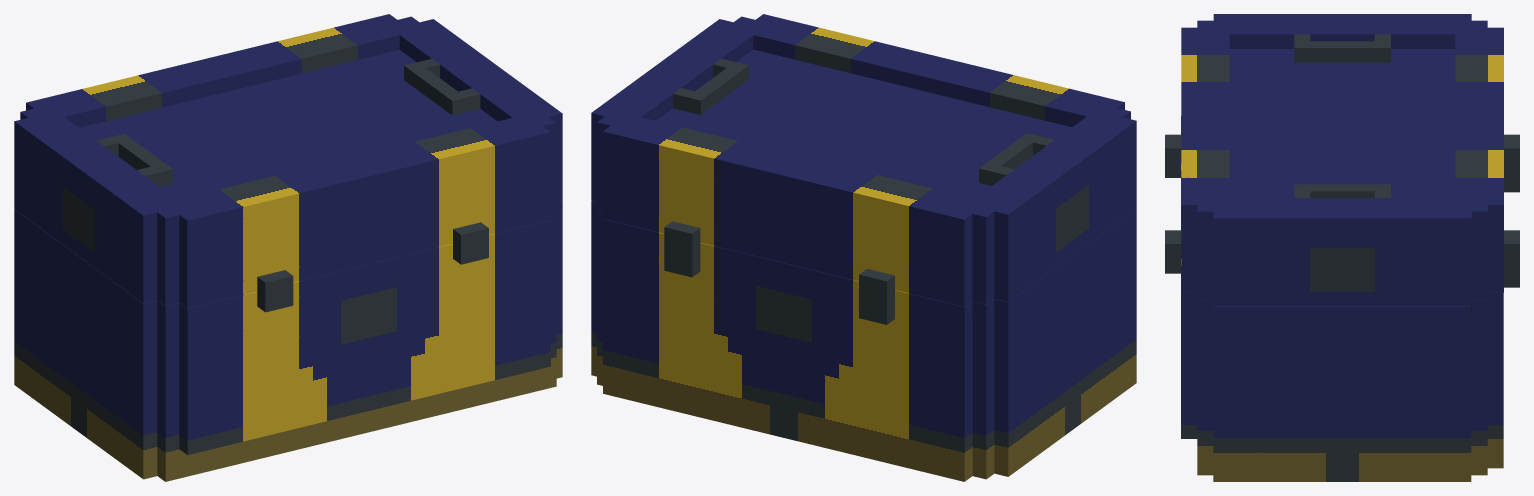
The model's file is Crate.gltf.
3 renders of one model, left to right at view 1: azimuth 30°, elevation 25°; view 2: azimuth 150°, elevation 25°; view 3: azimuth 270°, elevation 25°, orthographic.
Parts seen in each view (by area): view 1: top-Local, box-Local; view 2: top-Local, box-Local; view 3: top-Local, box-Local.
Part boxes in pixels (<box>): top-Local: <box>14,14,562,311</box>; box-Local: <box>14,201,562,481</box>; top-Local: <box>591,14,1136,324</box>; box-Local: <box>591,200,1136,481</box>; top-Local: <box>1165,14,1519,313</box>; box-Local: <box>1165,116,1503,481</box>.
Size of the model in its own units: 1.2 by 0.7212 by 0.8804.
Materials: 2 (2 with a texture image).
